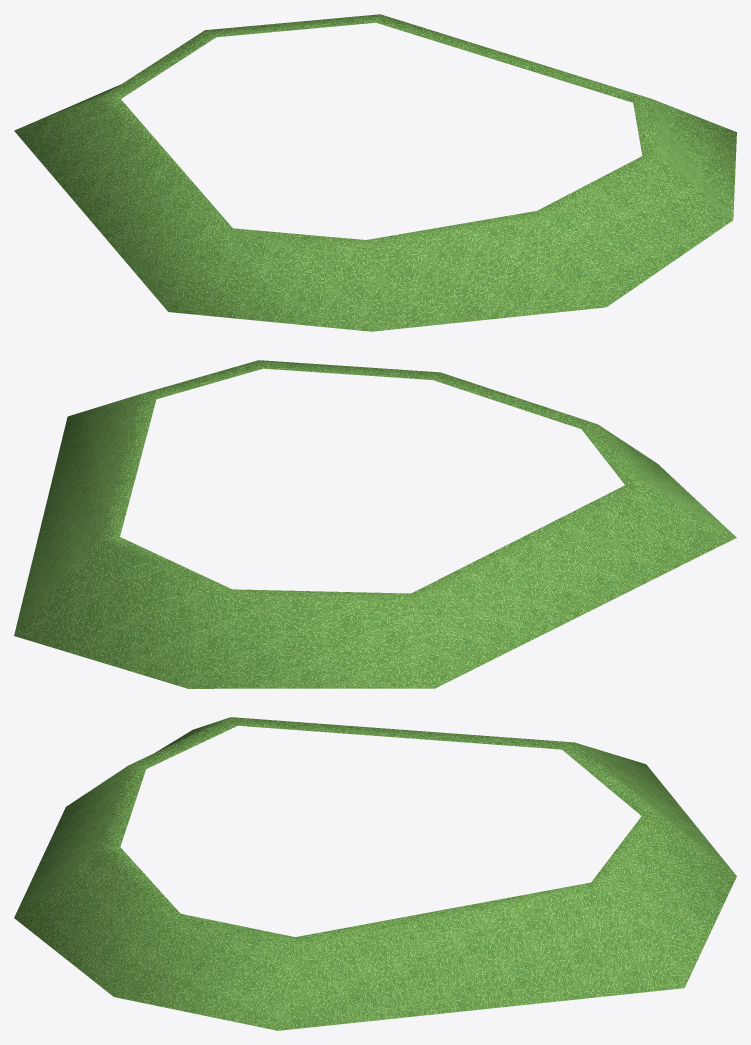
File: kd_connection_world-inner_surface_4_4.glb
3 views of the same model, one above another, from view 1: azimuth 30°, elevation 25°; view 2: azimuth 150°, elevation 25°; view 3: azimuth 270°, elevation 25° (orthographic). The views are drawn at different scales.
Visible parts, largest first — view 1: kd_connection_world-inner_surface_4_4; view 2: kd_connection_world-inner_surface_4_4; view 3: kd_connection_world-inner_surface_4_4.
Part boxes in pixels (x1,y1,x2,y2): kd_connection_world-inner_surface_4_4: [14, 14, 736, 331]; kd_connection_world-inner_surface_4_4: [14, 360, 736, 688]; kd_connection_world-inner_surface_4_4: [14, 717, 736, 1030].
Size of the model in its own units: 16.33 by 1.96 by 16.57.
Materials: 1 (1 with a texture image).
